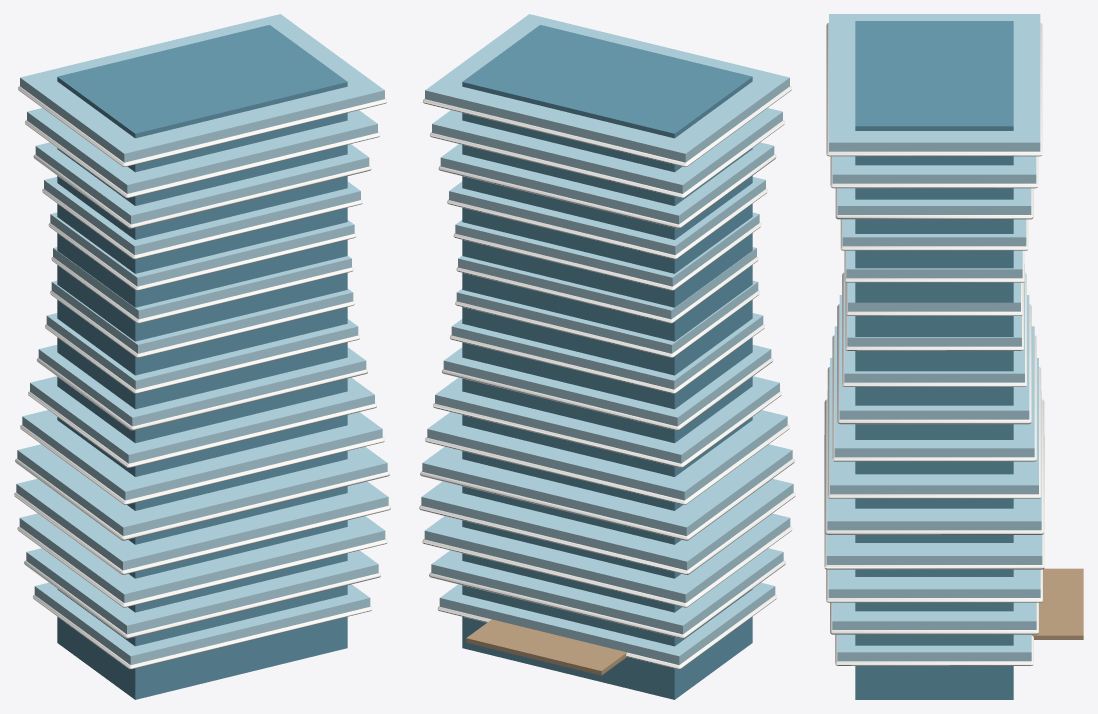
The model's file is Tower_LeParcCurved.fbx.
3 views of the same model, side by side, from view 1: azimuth 30°, elevation 25°; view 2: azimuth 150°, elevation 25°; view 3: azimuth 270°, elevation 25° (orthographic).
Parts seen in each view (by area): view 1: Cube, Cube.032, Cube.010, Cube.008, Cube.012, Cube.006, Cube.004, Cube.030, Cube.014, Cube.002, Cube.028, Cube.016 (+21 smaller); view 2: Cube, Cube.032, Cube.010, Cube.008, Cube.012, Cube.006, Cube.004, Cube.030, Cube.014, Cube.002, Cube.028, Cube.016 (+22 smaller); view 3: Cube, Cube.032, Cube.010, Cube.012, Cube.008, Cube.014, Cube.006, Cube.030, Cube.004, Cube.016, Cube.002, Cube.028 (+22 smaller).
Part boxes in pixels (x1,y1,x2,y2): Cube: [57, 25, 347, 699]; Cube.032: [20, 14, 384, 162]; Cube.010: [17, 444, 387, 536]; Cube.008: [16, 479, 388, 570]; Cube.012: [22, 410, 382, 500]; Cube.006: [19, 513, 385, 602]; Cube.004: [26, 548, 378, 634]; Cube.030: [27, 108, 377, 193]; Cube.014: [30, 376, 374, 463]; Cube.002: [34, 582, 370, 664]; Cube.028: [35, 142, 369, 224]; Cube.016: [38, 345, 366, 426]; Cube: [462, 25, 752, 699]; Cube.032: [425, 14, 789, 162]; Cube.010: [422, 444, 792, 536]; Cube.008: [421, 479, 793, 570]; Cube.012: [427, 410, 787, 500]; Cube.006: [424, 513, 790, 602]; Cube.004: [431, 548, 783, 634]; Cube.030: [432, 108, 782, 193]; Cube.014: [435, 376, 779, 463]; Cube.002: [439, 582, 775, 664]; Cube.028: [440, 142, 774, 224]; Cube.016: [443, 345, 771, 426]; Cube: [855, 21, 1013, 699]; Cube.032: [829, 14, 1040, 151]; Cube.010: [827, 391, 1041, 530]; Cube.012: [830, 358, 1038, 494]; Cube.008: [826, 535, 1042, 564]; Cube.014: [834, 326, 1034, 457]; Cube.006: [828, 569, 1040, 597]; Cube.030: [832, 156, 1036, 183]; Cube.004: [832, 602, 1036, 629]; Cube.016: [839, 295, 1029, 419]; Cube.002: [837, 634, 1031, 661]; Cube.028: [837, 188, 1031, 214].
Bounding box in the file's own units: 27.95 × 56 × 22.96.
